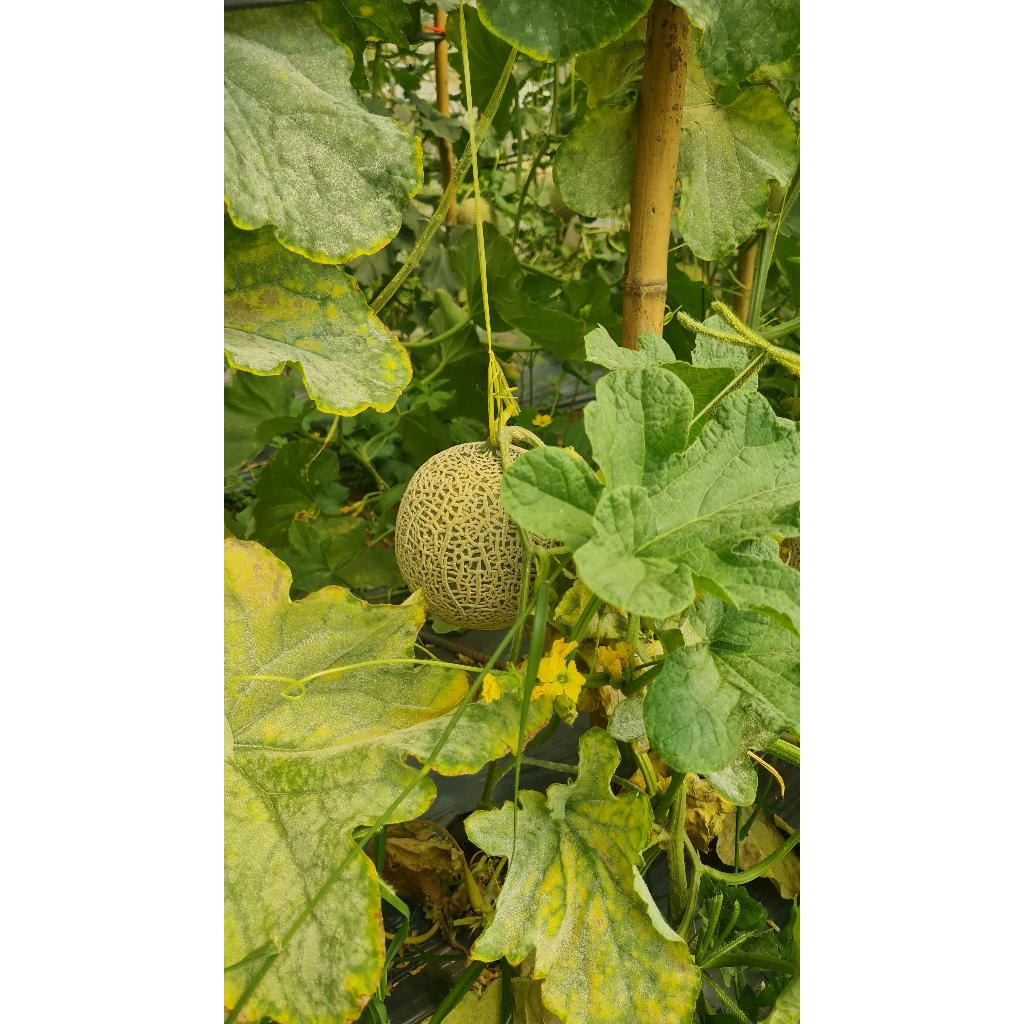melon: (396, 442, 522, 630)
